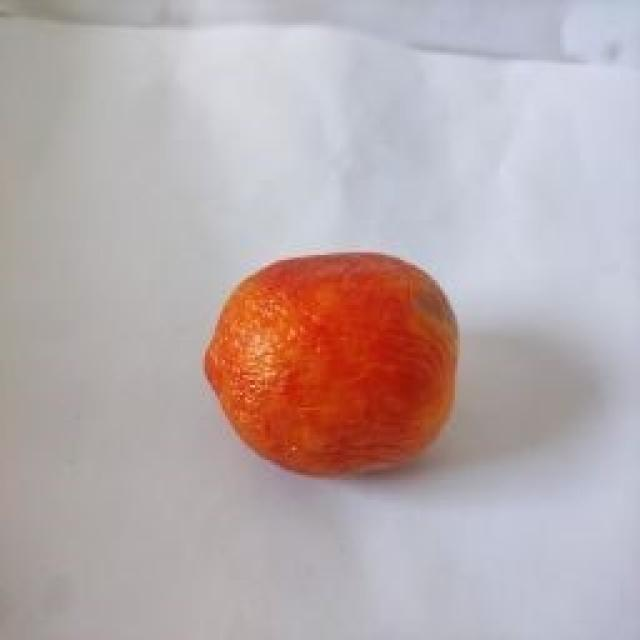overripe: (198, 247, 464, 480)
